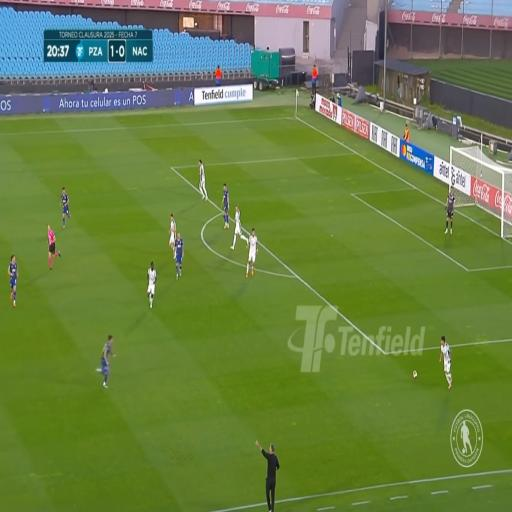Ball: (413, 368, 418, 380)
Goalkeeper: (446, 186, 456, 235)
Player: (98, 338, 114, 392), (7, 254, 19, 308), (438, 339, 452, 384), (246, 225, 258, 274), (231, 202, 242, 248), (146, 264, 156, 305), (199, 159, 208, 204), (175, 232, 183, 276), (222, 182, 229, 232), (169, 209, 176, 258), (63, 187, 69, 225)
Referee: (44, 221, 58, 267)
